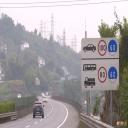speed_limit_100: (97, 39, 107, 57)
speed_limit_80: (97, 64, 108, 86)
